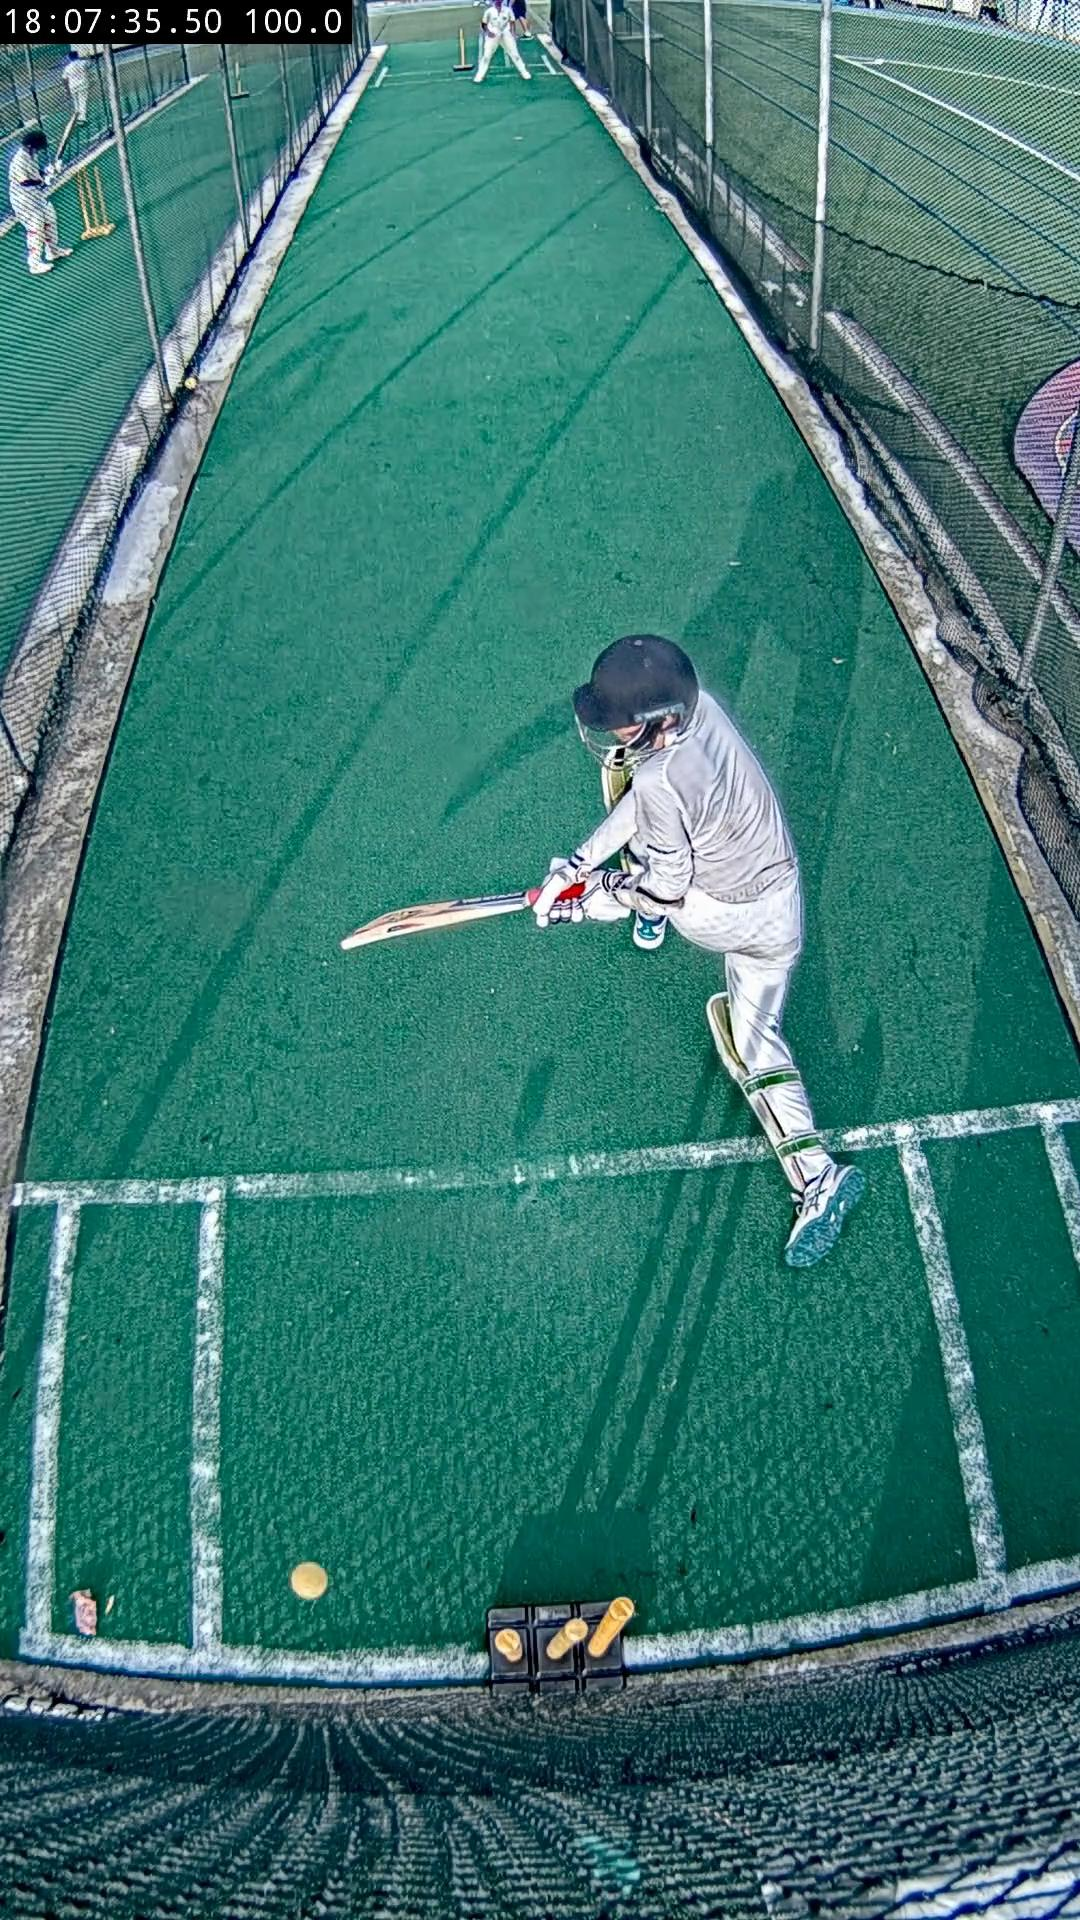ball: (289, 1560, 330, 1601)
bat: (342, 893, 533, 948)
gloves: (533, 858, 634, 924)
helmet: (574, 634, 698, 793)
pads: (705, 994, 791, 1156)
stumps: (488, 1597, 634, 1692)
